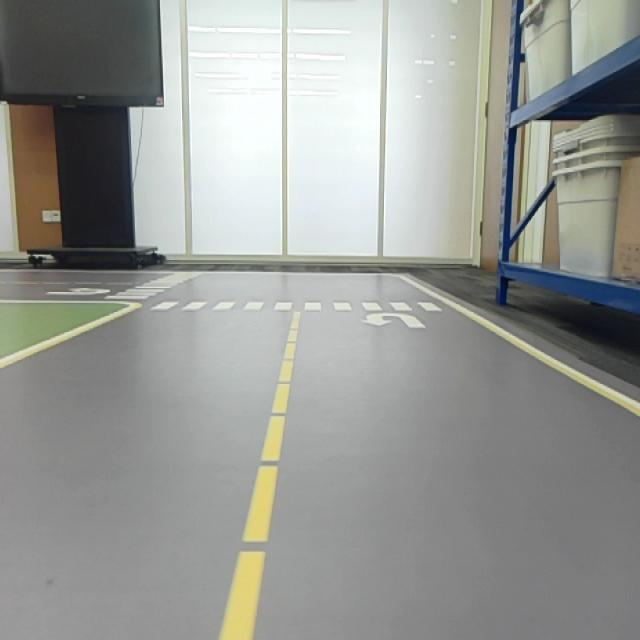left_lane: (219, 308, 302, 640)
right_lane: (406, 276, 640, 420), (1, 305, 140, 371)
